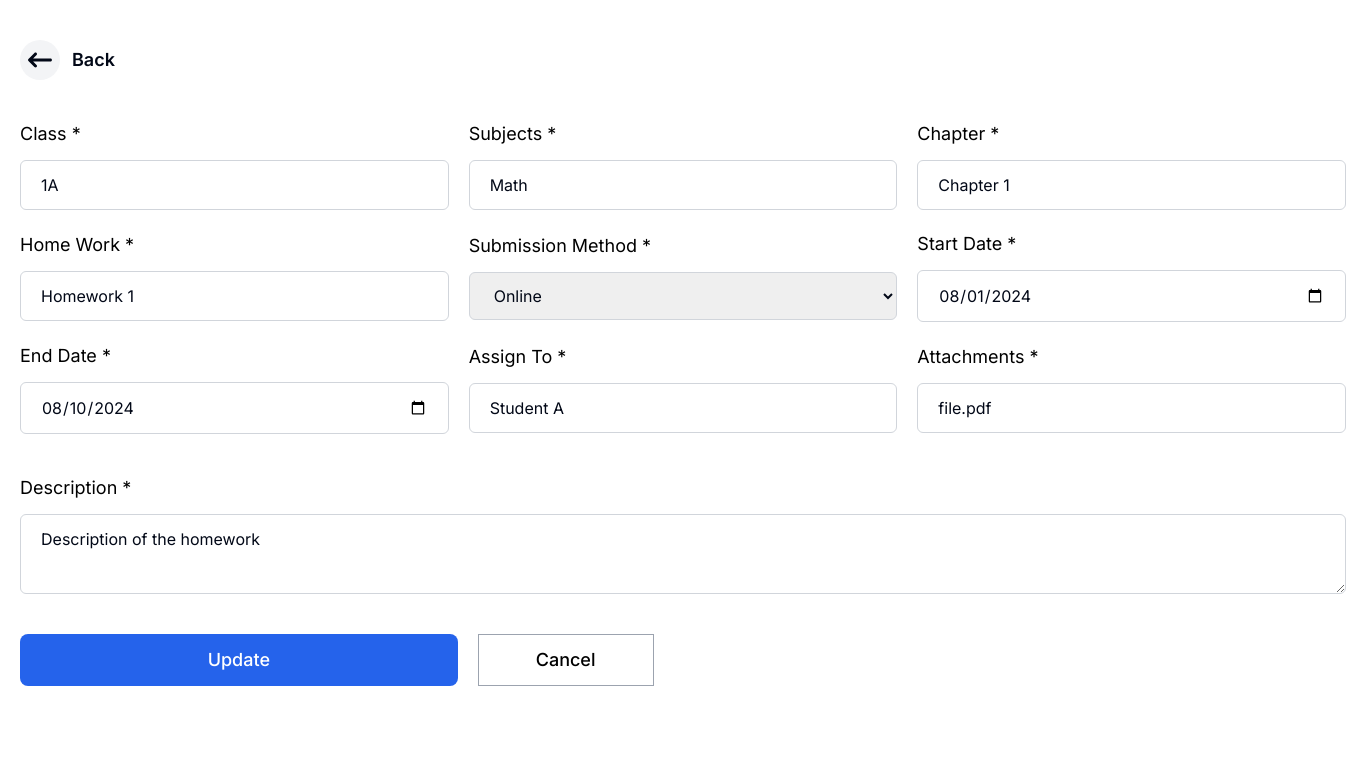
Test case: EditDetails Component › resets form fields on cancel button click
Replace the text in the field labelled "Class *" with "2B". click: (234, 185)
box: x1=20 y1=160 x2=449 y2=210
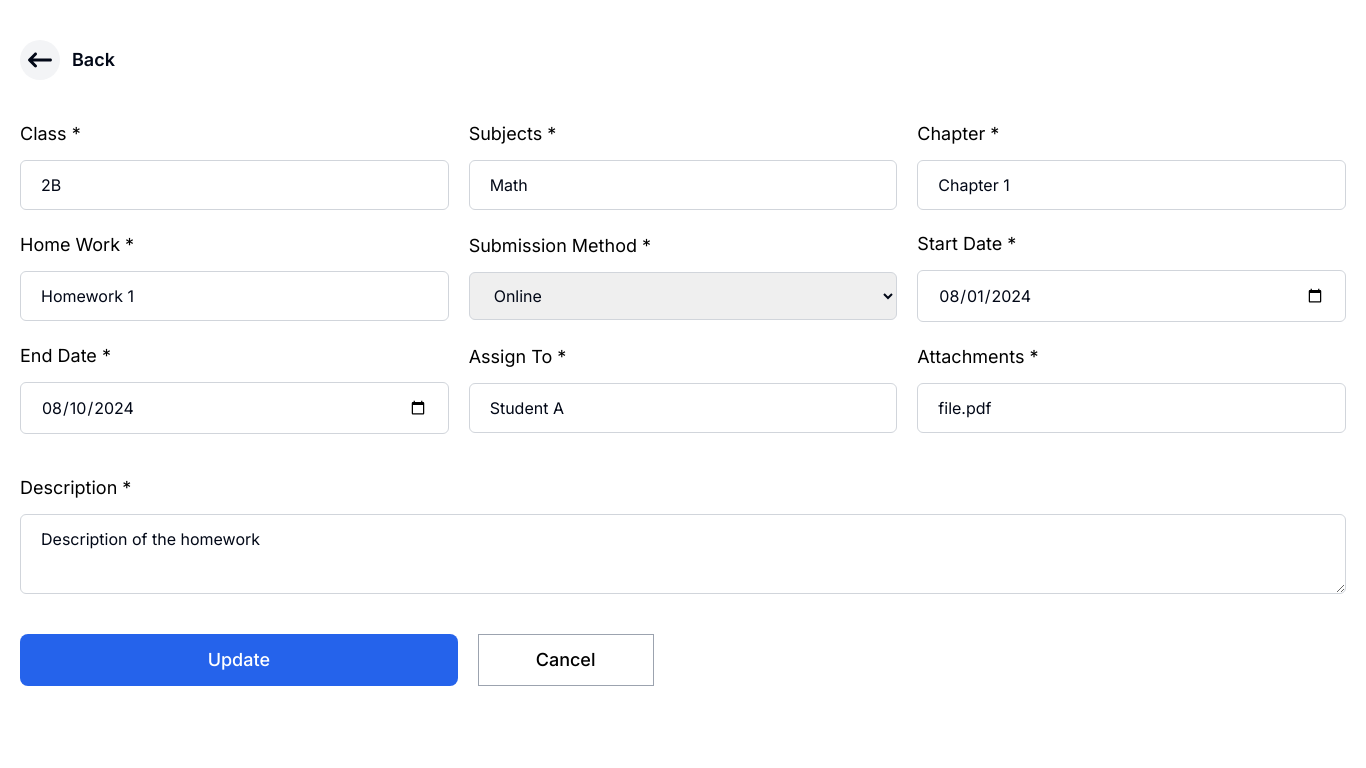
Click the button "Cancel". click: (566, 660)
box: x1=478 y1=634 x2=654 y2=686
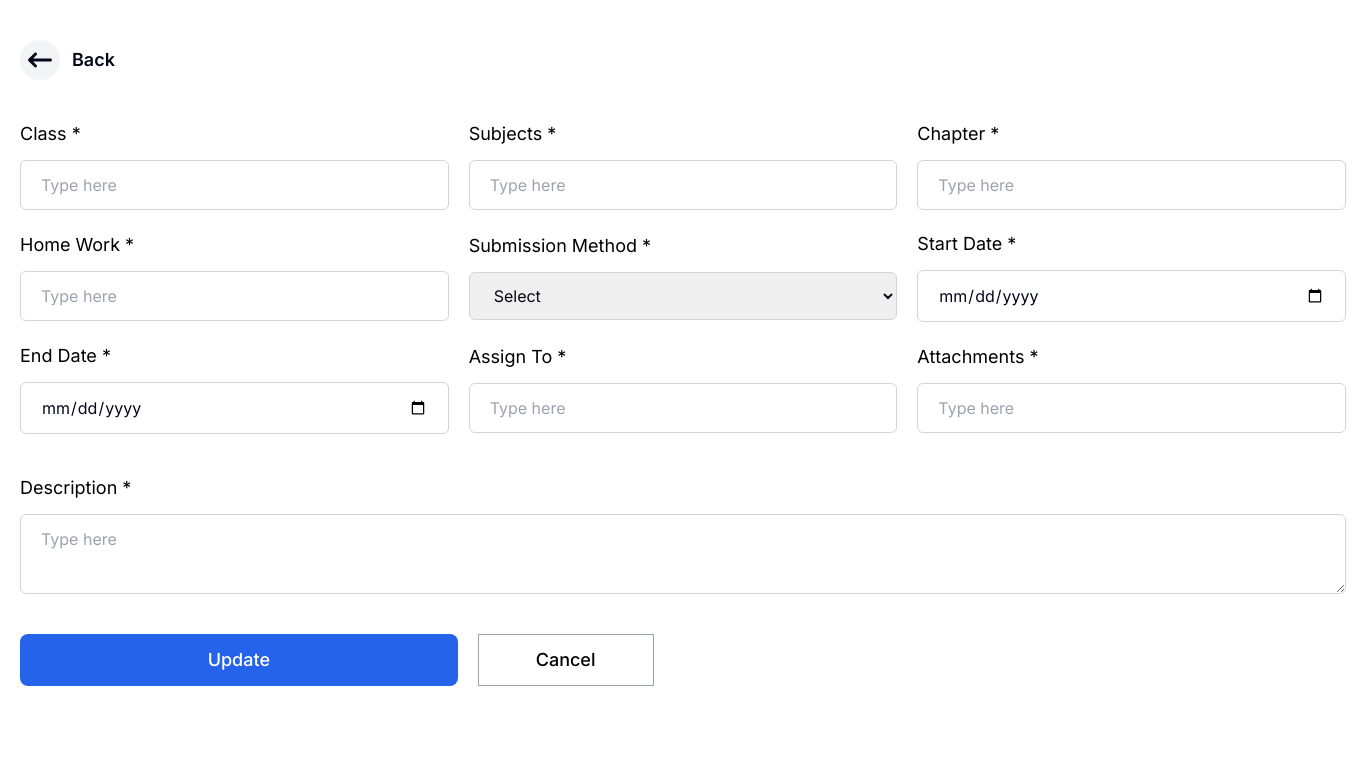
Result: the field labelled "Class *" is empty at x1=20 y1=160 x2=449 y2=210
Result: the field labelled "Subjects *" is empty at x1=469 y1=160 x2=897 y2=210
Result: the field labelled "Chapter *" is empty at x1=917 y1=160 x2=1346 y2=210
